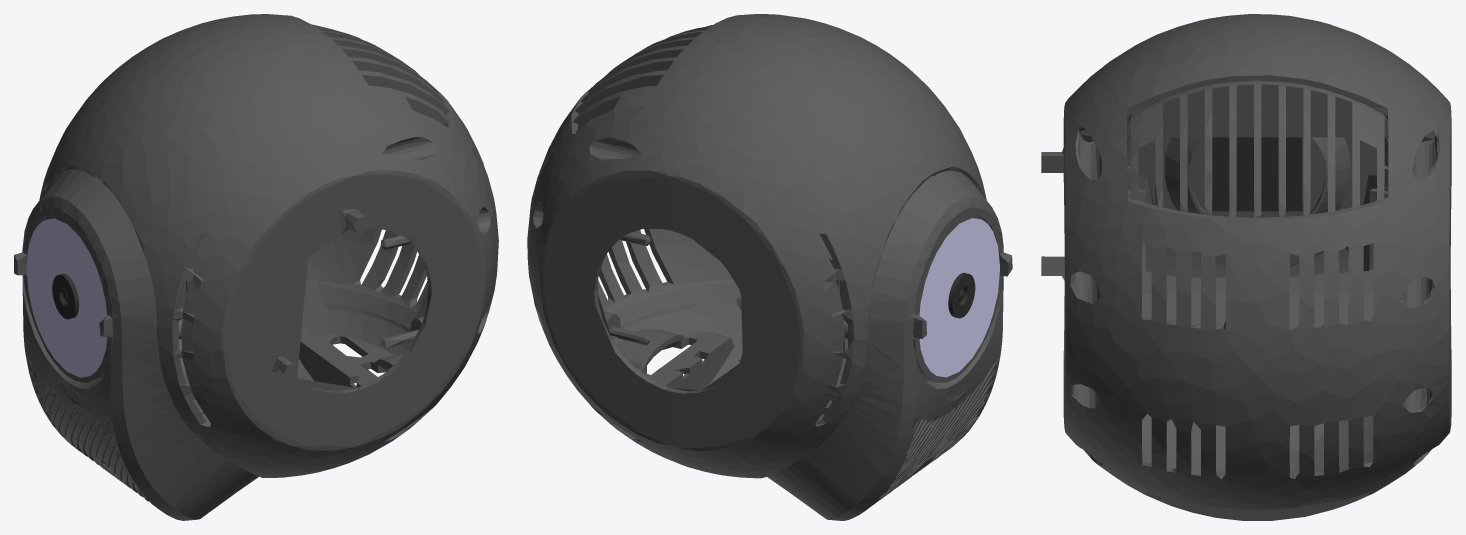
The model's file is camera_360.dae.
3 renders of one model, left to right at view 1: azimuth 30°, elevation 25°; view 2: azimuth 150°, elevation 25°; view 3: azimuth 270°, elevation 25°, orthographic. The views are drawn at different scales.
Visible parts, largest first — view 1: tmp_export_cgo3_camera_remeshed_v1; view 2: tmp_export_cgo3_camera_remeshed_v1; view 3: tmp_export_cgo3_camera_remeshed_v1.
Part boxes in pixels (bbox=[...]): tmp_export_cgo3_camera_remeshed_v1: bbox=[14, 14, 498, 520]; tmp_export_cgo3_camera_remeshed_v1: bbox=[527, 14, 1012, 520]; tmp_export_cgo3_camera_remeshed_v1: bbox=[1041, 14, 1451, 520].
Bounding box in the file's own units: 69.3 × 55 × 72.31.
